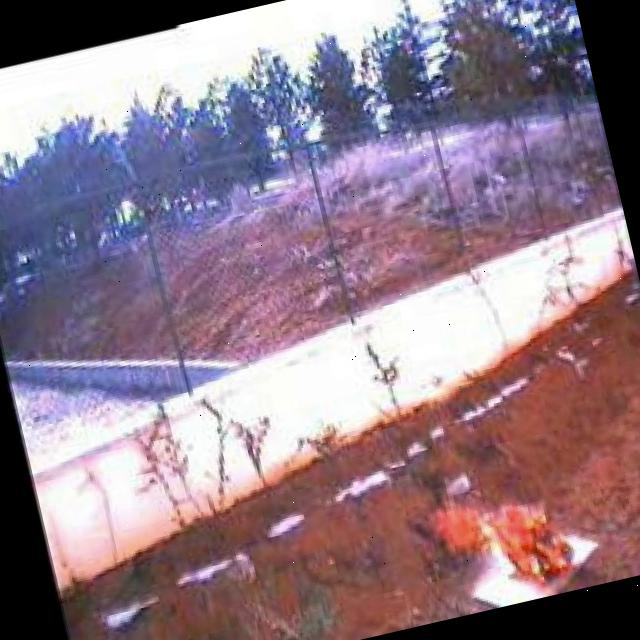fire: (426, 476, 581, 608)
